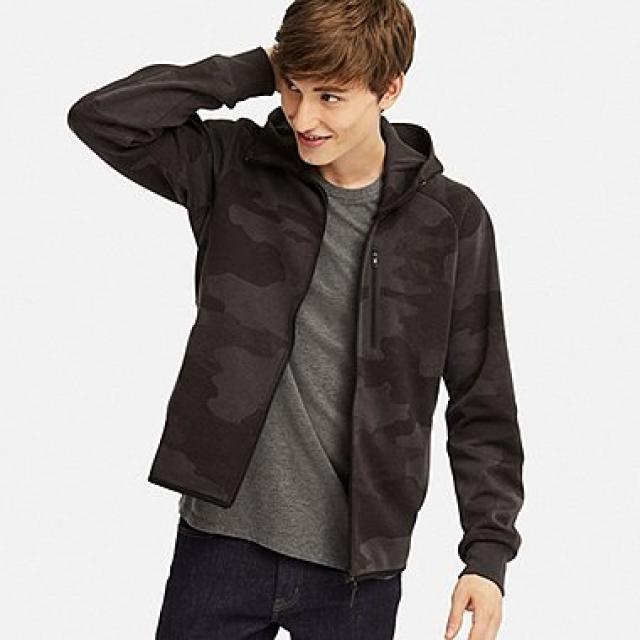mobile_phonerotation: (64, 0, 527, 638)
